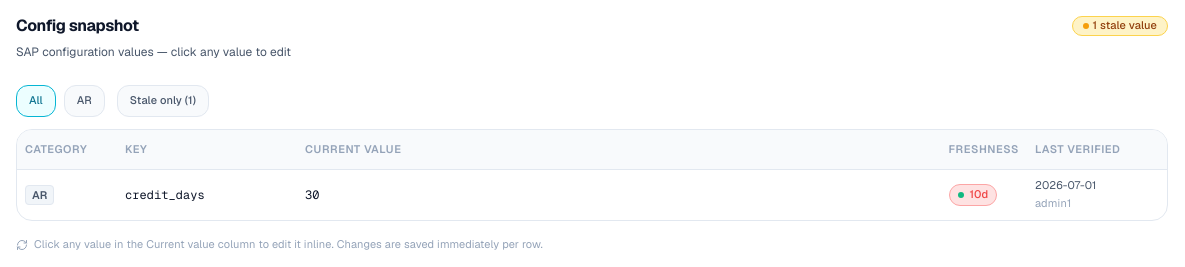
Test case: AdminConfigSnapshotPage › passes the real staleness field to StalenessIndicator rather than recomputing from age_days alone
Step 1. Hover over the text "10d" → point(973, 195), box x1=949 y1=184 x2=997 y2=206
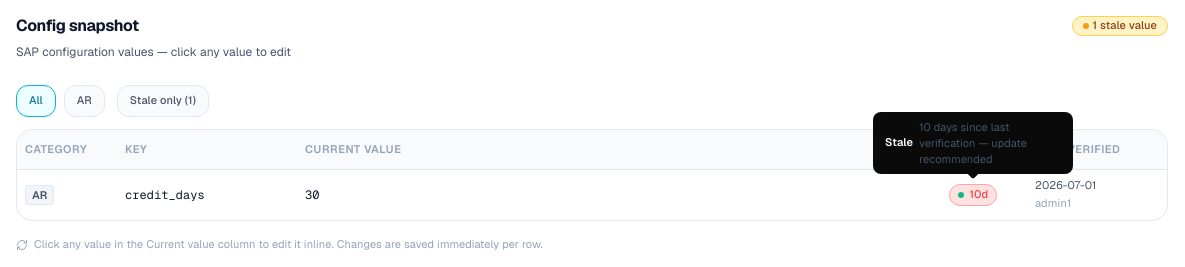
Expected: the text "Stale" is shown, x1=885 y1=135 x2=913 y2=151
